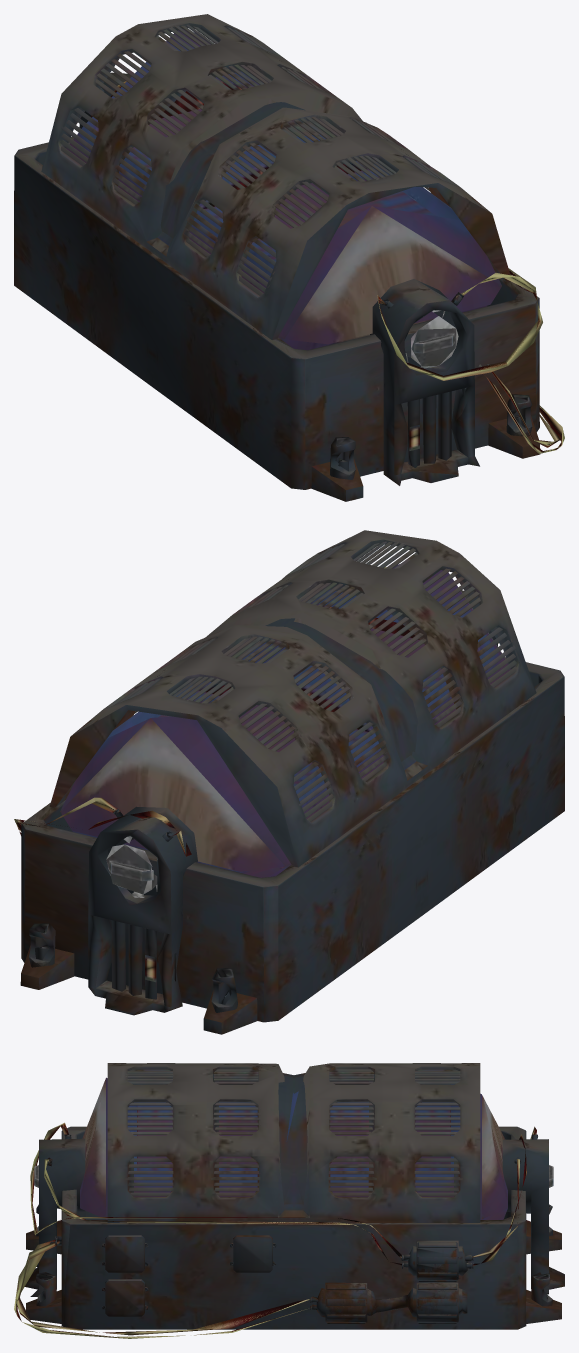
Rendered from generator.glb.
3 views of the same model, one above another, from view 1: azimuth 30°, elevation 25°; view 2: azimuth 150°, elevation 25°; view 3: azimuth 270°, elevation 25° (orthographic). The views are drawn at different scales.
Visible parts, largest first — view 1: defaultMaterial (×3); view 2: defaultMaterial (×3); view 3: defaultMaterial (×3).
Boxes of the visible parts, x1,y1,x2,y2 form: defaultMaterial (×3): [14, 14, 564, 501]; defaultMaterial (×3): [14, 530, 564, 1034]; defaultMaterial (×3): [14, 1063, 564, 1338].
Bounding box in the file's own units: 0.9257 × 0.8279 × 2.
3 materials, 3 textured.
